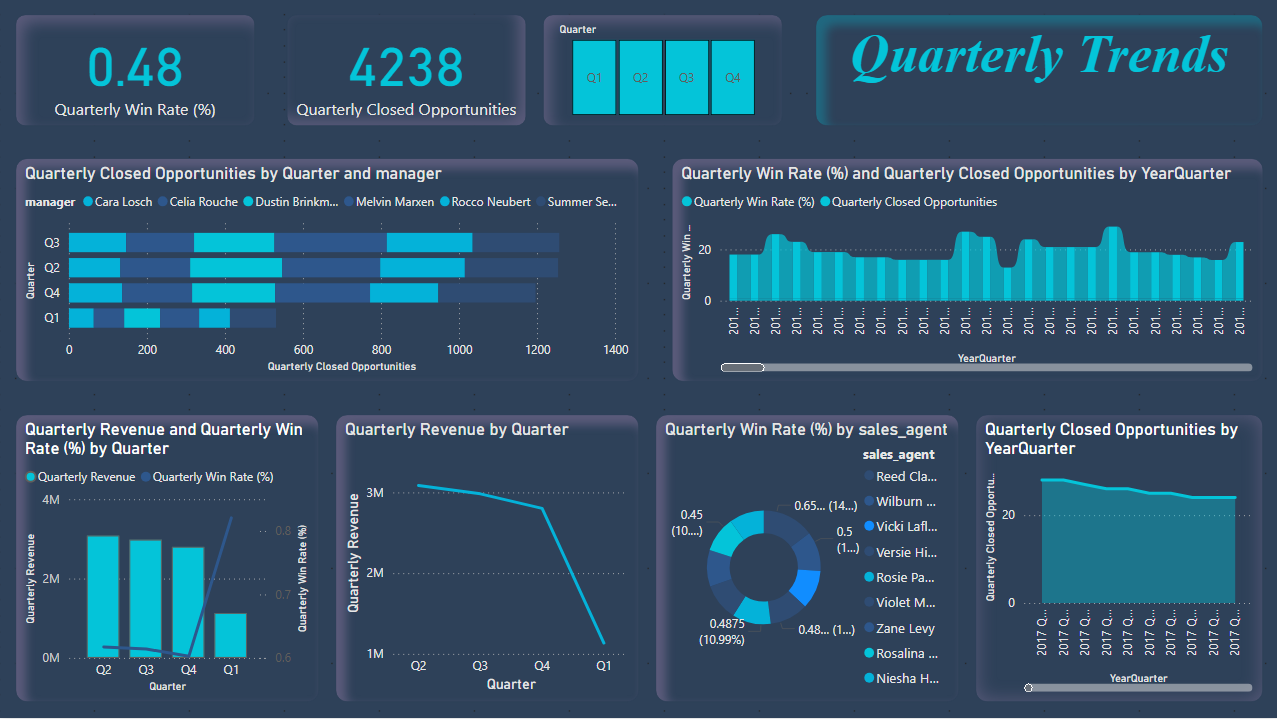

Layout of this report page (visuals, bound fields, positions):
{"tool":"powerbi","page":{"name":"Page 3","canvas":[1280,720],"ordinal":2},"visuals":[{"type":"textbox","box":[816,16,448,112],"z":0},{"type":"lineChart","fields":{"Y":["sales_pipeline.Quarterly Revenue"],"Category":["sales_pipeline.Quarter"]},"box":[336,416,304,288],"z":1000},{"type":"lineClusteredColumnComboChart","fields":{"Category":["sales_pipeline.Quarter"],"Y":["sales_pipeline.Quarterly Revenue"],"Y2":["sales_pipeline.Quarterly Win Rate (%)"]},"box":[16,416,304,288],"z":2000},{"type":"areaChart","fields":{"Category":["sales_pipeline.YearQuarter"],"Y":["sales_pipeline.Quarterly Closed Opportunities"]},"box":[976,416,288,288],"z":3000},{"type":"donutChart","fields":{"Category":["sales_teams.sales_agent"],"Y":["sales_pipeline.Quarterly Win Rate (%)"]},"box":[656,416,304,288],"z":4000},{"type":"barChart","fields":{"Category":["sales_pipeline.Quarter"],"Y":["sales_pipeline.Quarterly Closed Opportunities"],"Series":["sales_teams.manager"]},"box":[16,160,624,224],"z":5000},{"type":"ribbonChart","fields":{"Category":["sales_pipeline.YearQuarter"],"Y":["sales_pipeline.Quarterly Win Rate (%)","sales_pipeline.Quarterly Closed Opportunities"]},"box":[672,160,592,224],"z":6000},{"type":"card","fields":{"Values":["sales_pipeline.Quarterly Win Rate (%)"]},"box":[16,16,240,112],"z":7000},{"type":"card","fields":{"Values":["sales_pipeline.Quarterly Closed Opportunities"]},"box":[288,16,240,112],"z":8000},{"type":"slicer","fields":{"Values":["sales_pipeline.Quarter"]},"box":[544,16,240,112],"z":9000}]}

Visuals, with their boxes in screenshot pixels (x1, y1, x2, y2), scaled from the page's 1280x720 canvas onto the 1277x719 screenshot:
textbox: select_region(814, 16, 1261, 128)
lineChart - sales_pipeline.Quarterly Revenue x sales_pipeline.Quarter: select_region(335, 415, 638, 703)
lineClusteredColumnComboChart - sales_pipeline.Quarter x sales_pipeline.Quarterly Revenue: select_region(16, 415, 319, 703)
areaChart - sales_pipeline.YearQuarter x sales_pipeline.Quarterly Closed Opportunities: select_region(974, 415, 1261, 703)
donutChart - sales_teams.sales_agent x sales_pipeline.Quarterly Win Rate (%): select_region(654, 415, 958, 703)
barChart - sales_pipeline.Quarter x sales_pipeline.Quarterly Closed Opportunities: select_region(16, 160, 638, 383)
ribbonChart - sales_pipeline.YearQuarter x sales_pipeline.Quarterly Win Rate (%): select_region(670, 160, 1261, 383)
card - sales_pipeline.Quarterly Win Rate (%): select_region(16, 16, 255, 128)
card - sales_pipeline.Quarterly Closed Opportunities: select_region(287, 16, 527, 128)
slicer - sales_pipeline.Quarter: select_region(543, 16, 782, 128)
